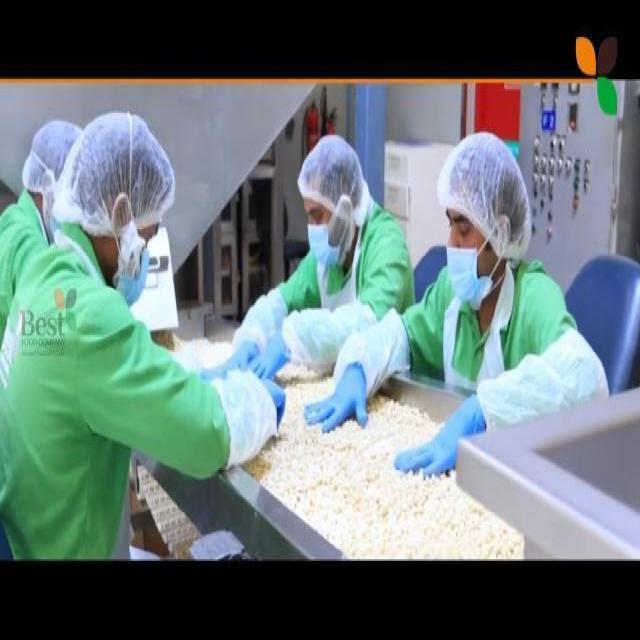gloved_hand: (391, 396, 487, 485), (306, 357, 378, 438), (225, 322, 295, 382), (257, 374, 295, 438)
